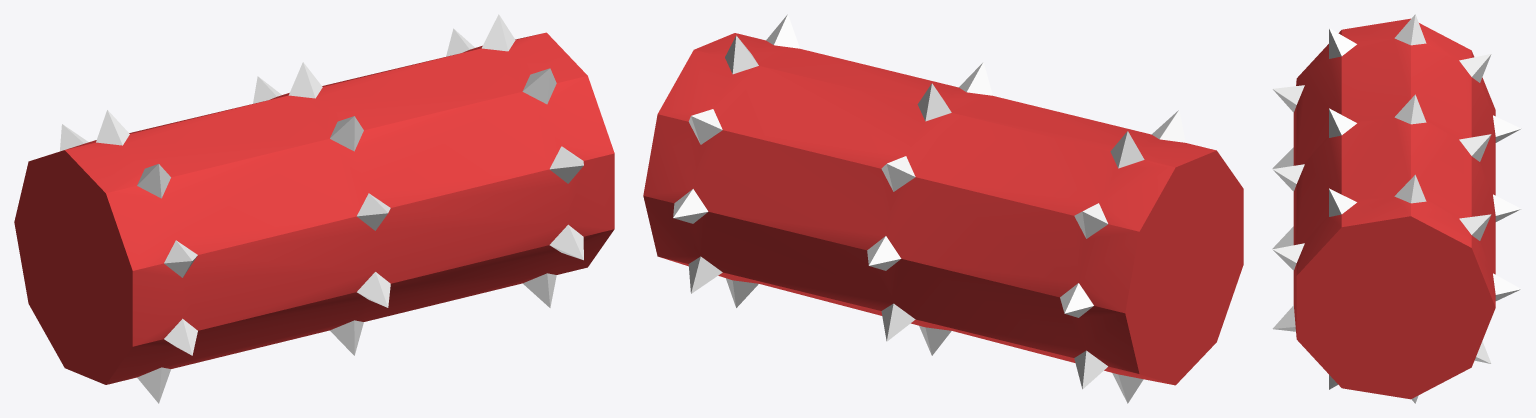
The model's file is RollerRed.fbx.
3 views of the same model, side by side, from view 1: azimuth 30°, elevation 25°; view 2: azimuth 150°, elevation 25°; view 3: azimuth 270°, elevation 25° (orthographic). The views are drawn at different scales.
Parts seen in each view (by area): view 1: Cylinder003; view 2: Cylinder003; view 3: Cylinder003.
Part boxes in pixels (bbox=[...]): Cylinder003: bbox=[14, 14, 614, 403]; Cylinder003: bbox=[643, 14, 1243, 403]; Cylinder003: bbox=[1272, 14, 1521, 403].
Size of the model in its own units: 57.86 by 31.34 by 30.87.
